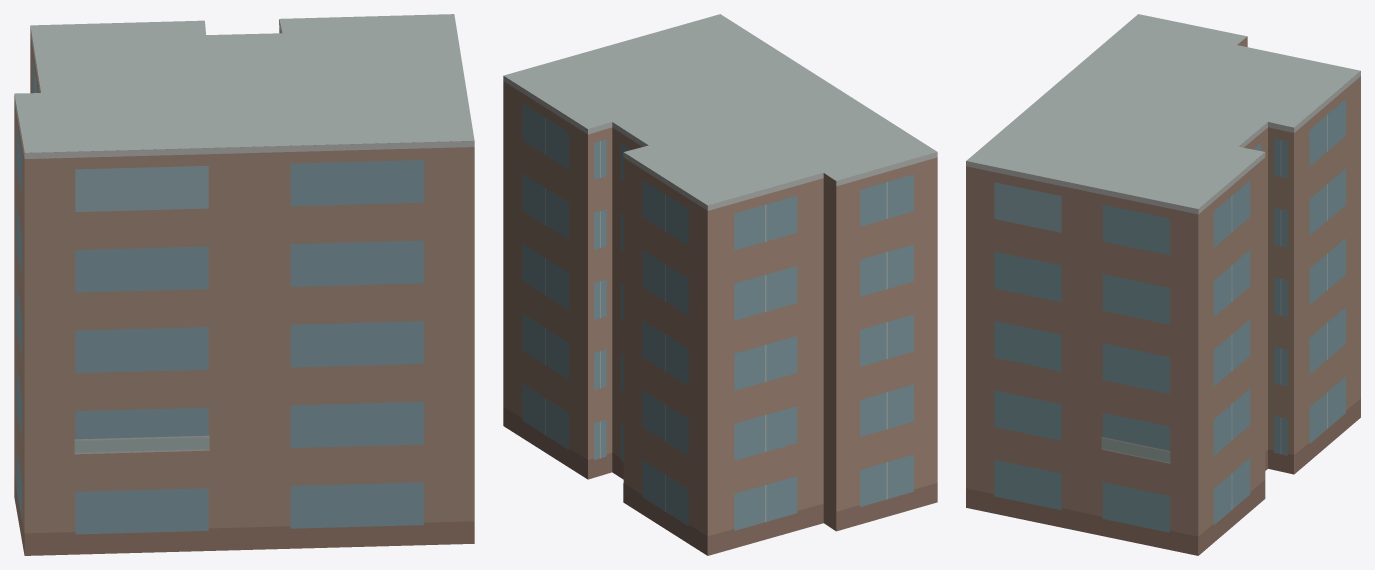
File: survey-upis-32885206.glb
3 renders of one model, left to right at view 1: azimuth 30°, elevation 25°; view 2: azimuth 150°, elevation 25°; view 3: azimuth 270°, elevation 25°, orthographic. The views are drawn at different scales.
Visible parts, largest first — view 1: survey-upis-32885206.tmp; view 2: survey-upis-32885206.tmp; view 3: survey-upis-32885206.tmp.
Part boxes in pixels (x1=…): survey-upis-32885206.tmp: x1=14, y1=14, x2=474, y2=555; survey-upis-32885206.tmp: x1=503, y1=14, x2=937, y2=555; survey-upis-32885206.tmp: x1=966, y1=14, x2=1360, y2=555.
Bounding box in the file's own units: 19.07 × 15.8 × 16.31.
